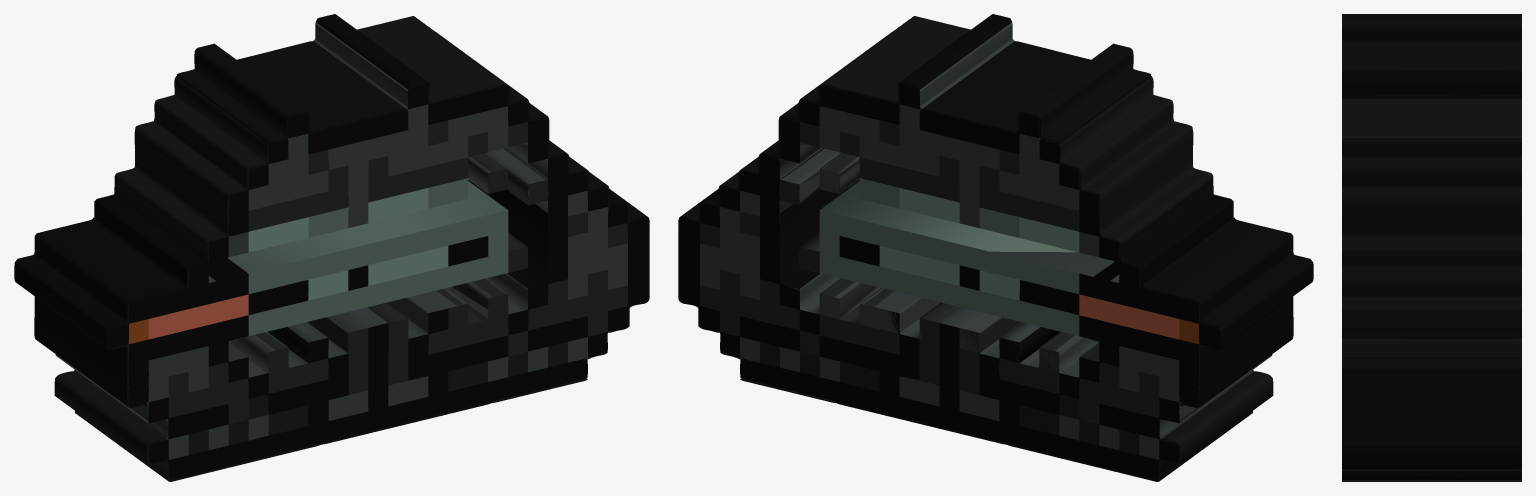
File: Toadz_2313.glb
The picture shows the model from 3 angles, left to right: view 1: azimuth 30°, elevation 25°; view 2: azimuth 150°, elevation 25°; view 3: azimuth 270°, elevation 25°; orthographic projection. The views are drawn at different scales.
Visible parts, largest first — view 1: Curve; view 2: Curve; view 3: Curve.
Part boxes in pixels (<box>): Curve: <box>14,14,649,481</box>; Curve: <box>678,14,1313,481</box>; Curve: <box>1342,14,1521,481</box>.
Bounding box in the file's own units: 3.38 × 2.01 × 1.
